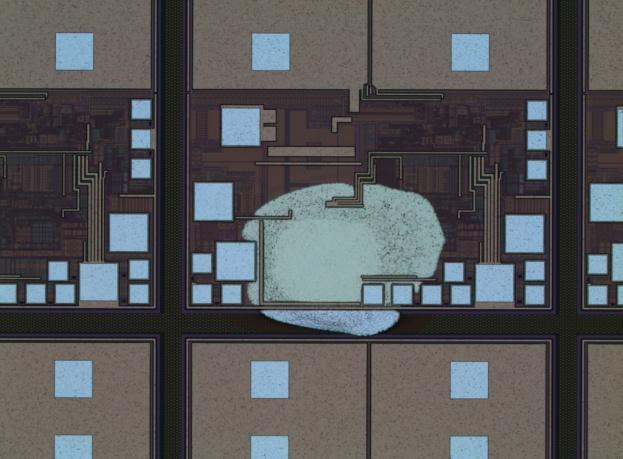BLOCK ETCH: (233, 176, 448, 338)
